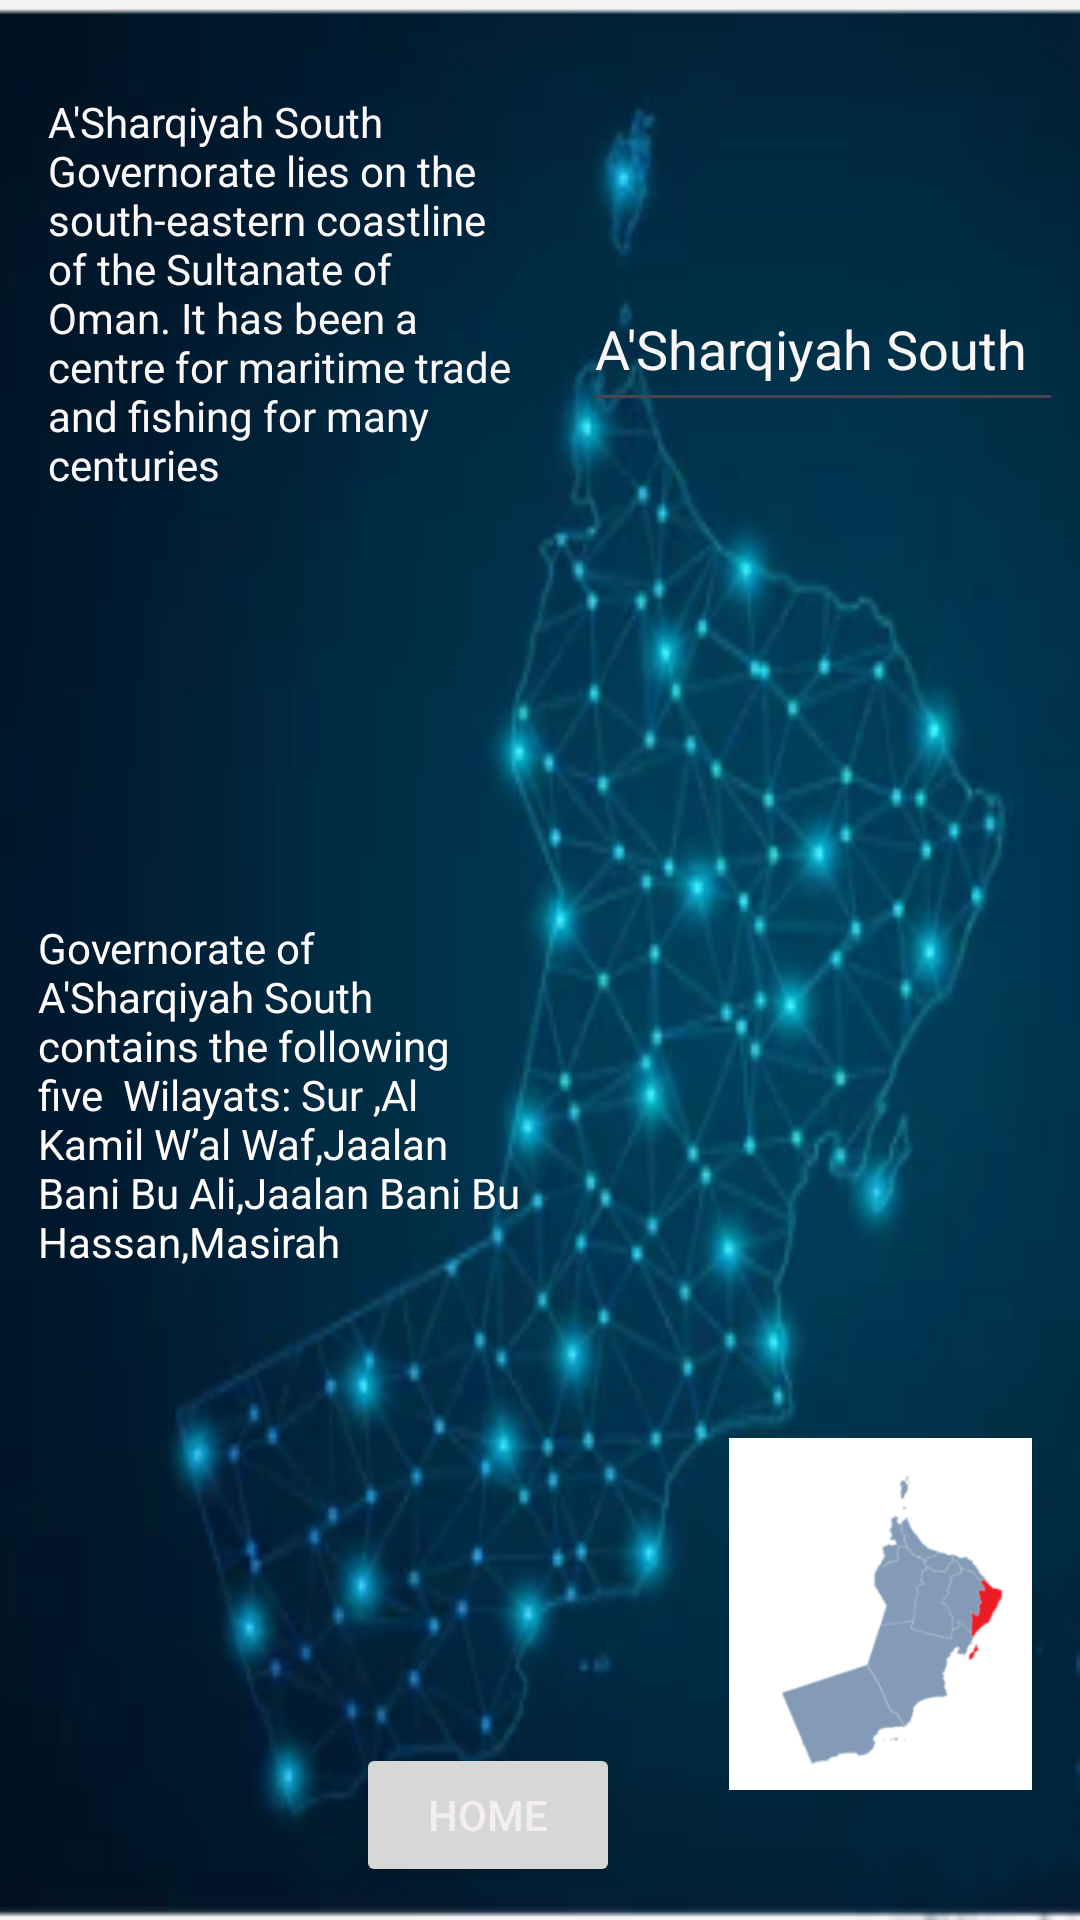

Icon click points for this 1080*1920 phone screenshot, format [x,y]:
sharqsouth: [880,1614]
